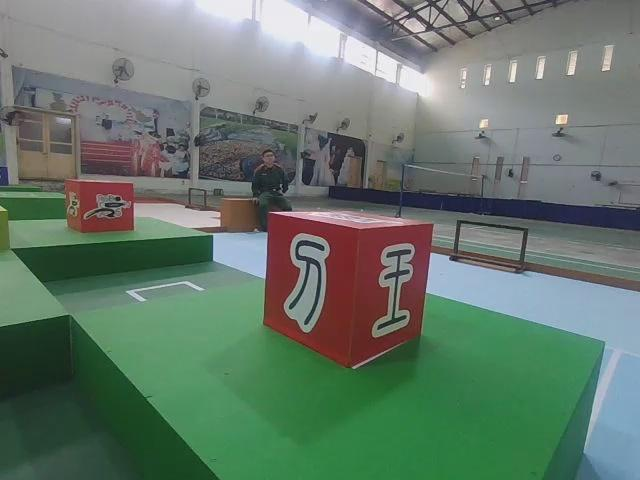R1: (62, 175, 137, 237)
R2 Fake: (260, 209, 434, 367)
